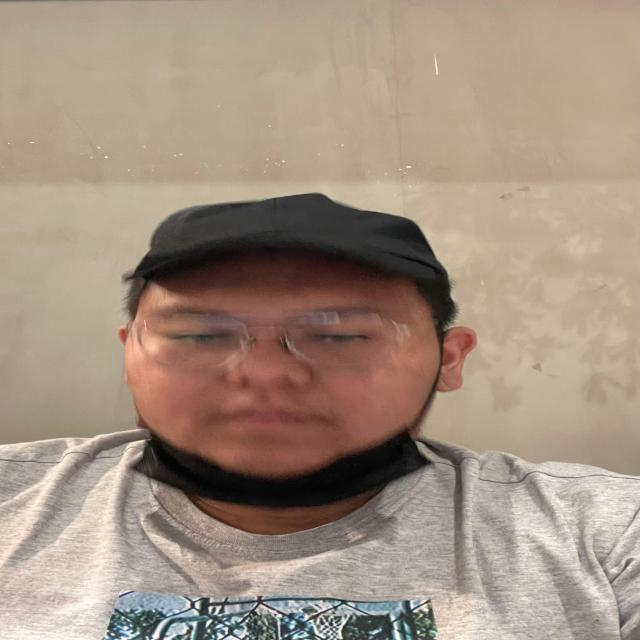3_gorra: (111, 190, 459, 284)
